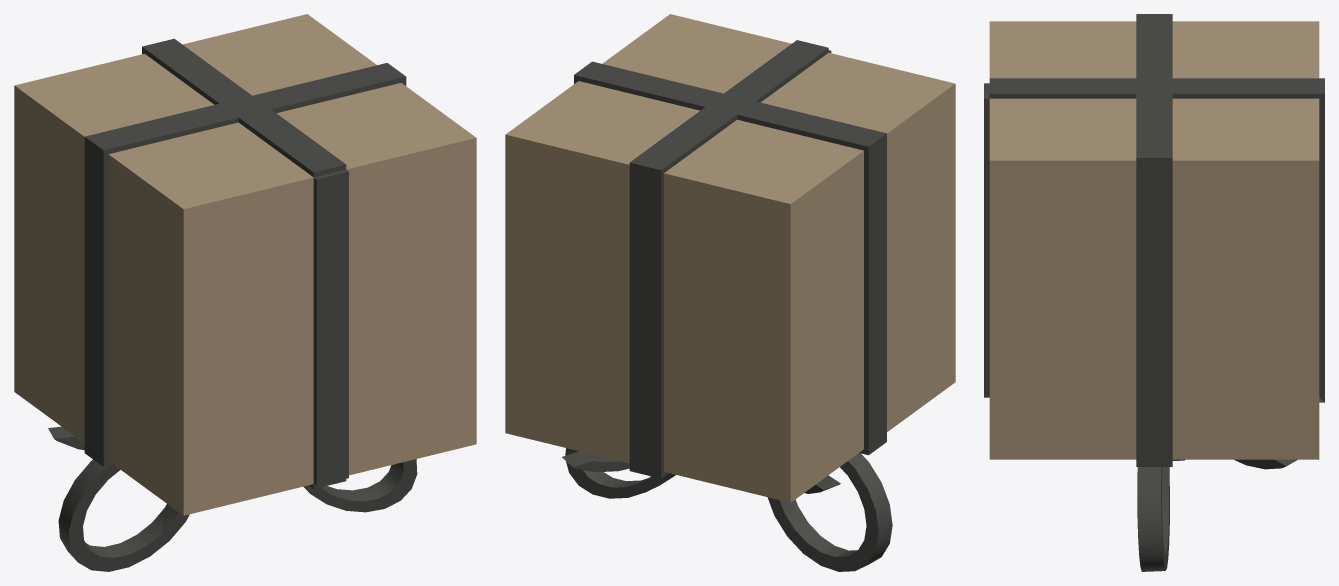
File: gift 1.fbx
3 views of the same model, side by side, from view 1: azimuth 30°, elevation 25°; view 2: azimuth 150°, elevation 25°; view 3: azimuth 270°, elevation 25° (orthographic). The views are drawn at different scales.
Visible parts, largest first — view 1: pCube1, pCylinder3, pCylinder4; view 2: pCube1, pCylinder3, pCylinder4, pCylinder7; view 3: pCube1, pCylinder4, pCylinder7.
Part boxes in pixels (box(x1,y1,x2,y2)): pCube1: box(14, 14, 476, 515); pCylinder3: box(58, 459, 189, 571); pCylinder4: box(303, 459, 417, 512); pCube1: box(505, 14, 955, 502); pCylinder3: box(767, 453, 892, 571); pCylinder4: box(565, 448, 675, 498); pCylinder7: box(562, 451, 629, 472); pCube1: box(984, 14, 1324, 466); pCylinder4: box(1137, 467, 1169, 571); pCylinder7: box(1234, 459, 1297, 469).
Size of the model in its own units: 1.39 by 1.73 by 1.25.
